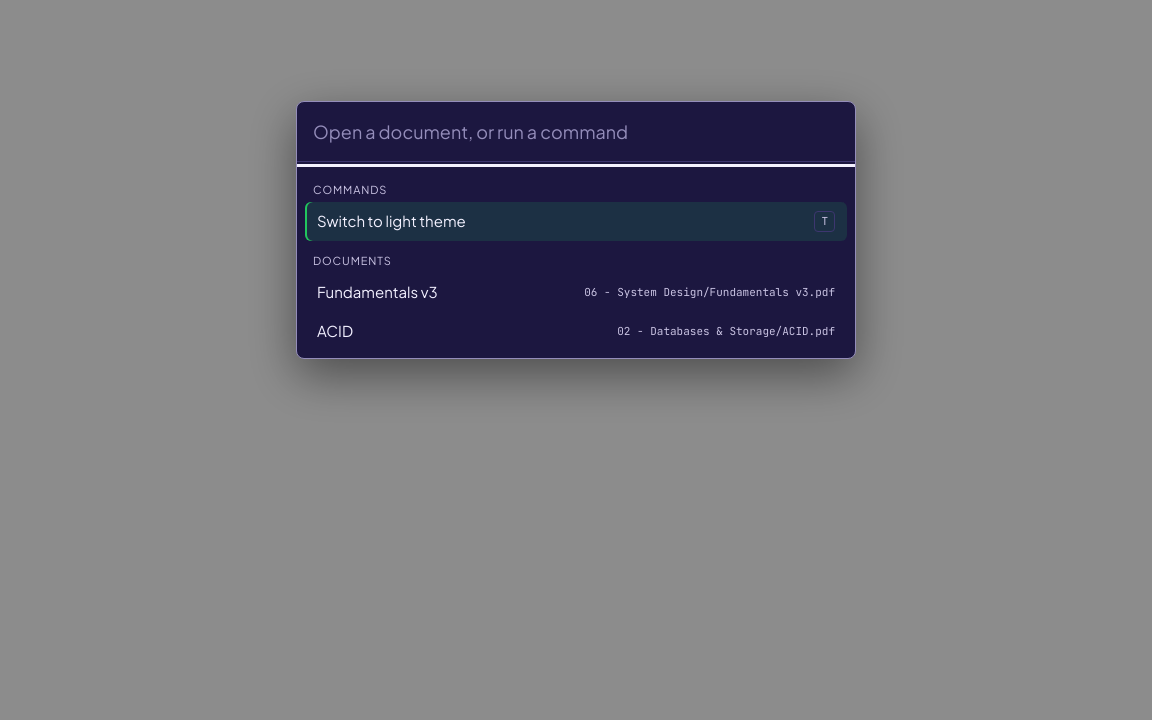
Test: the command palette › says so when nothing matches
This screenshot has width=1152, height=720.
Type "zzzz" into the dropdown at (576, 132), box [297, 102, 855, 162]
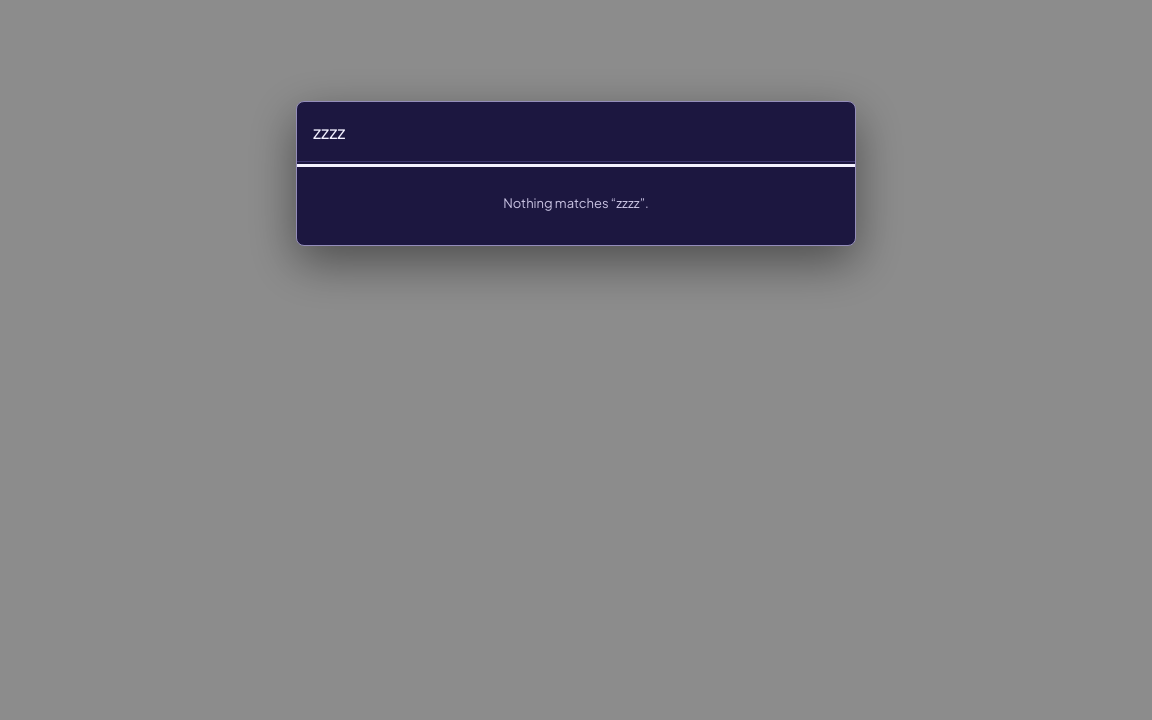
Result: the text "Nothing matches “zzzz”." is shown at [503, 195, 649, 211]
